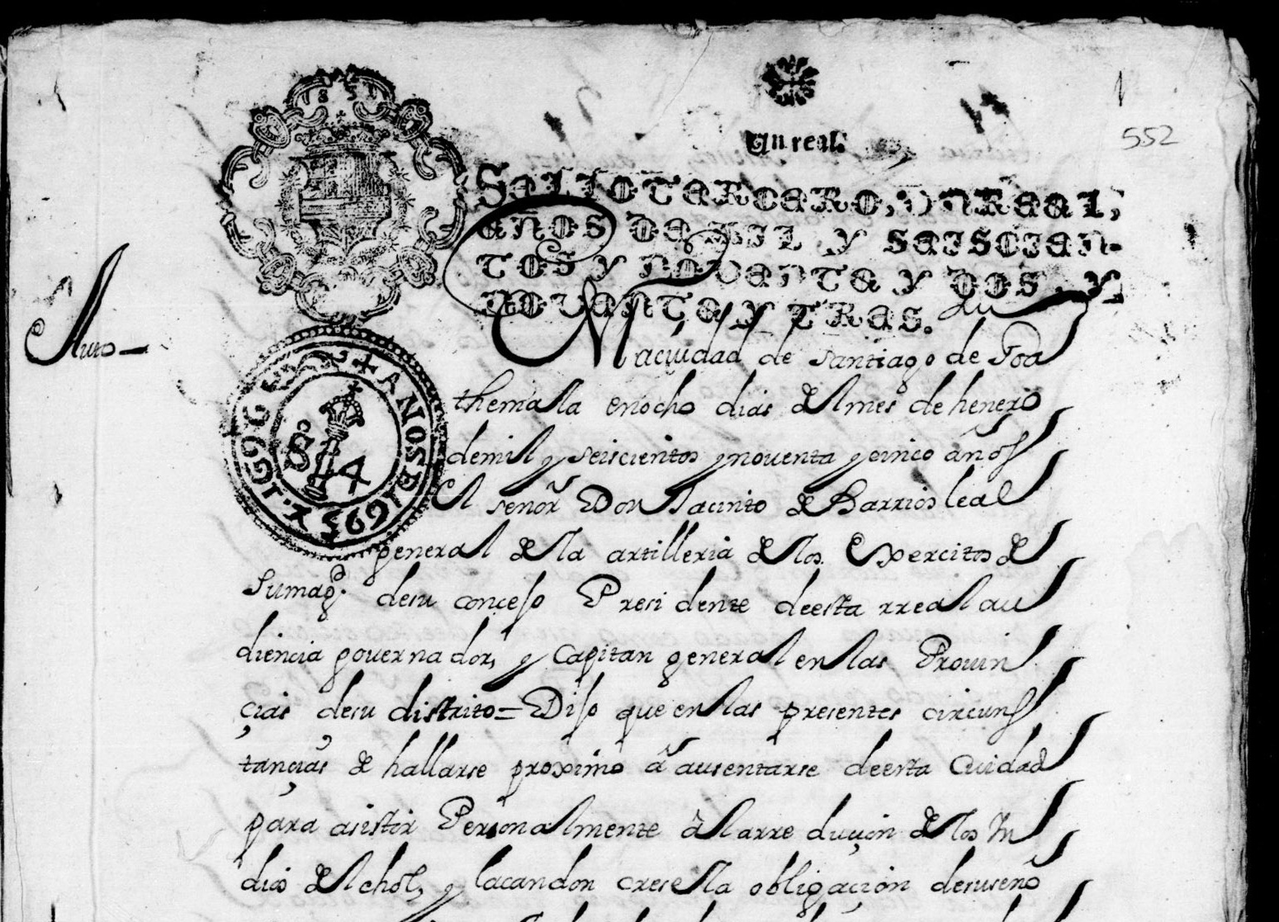lacandon: (475, 843, 594, 891)
